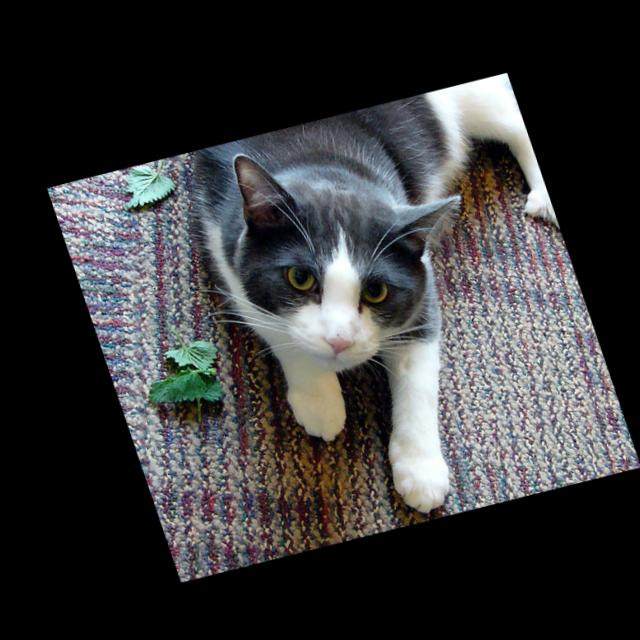animals: (221, 101, 496, 365)
